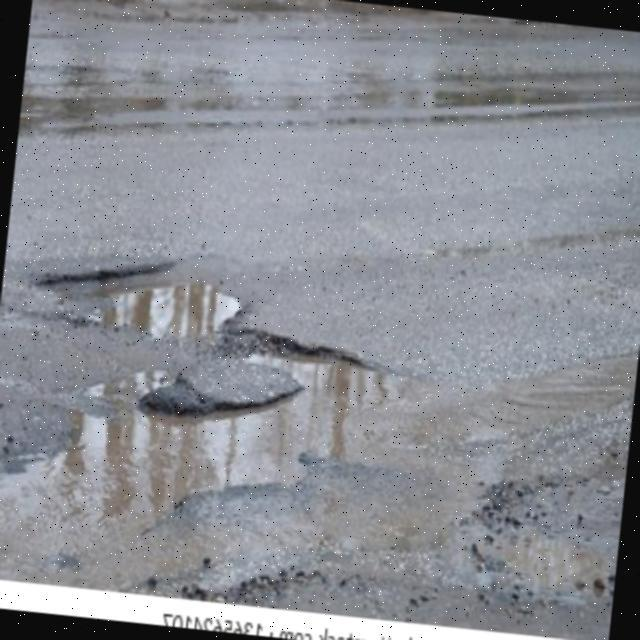Pothole: (40, 262, 384, 493)
